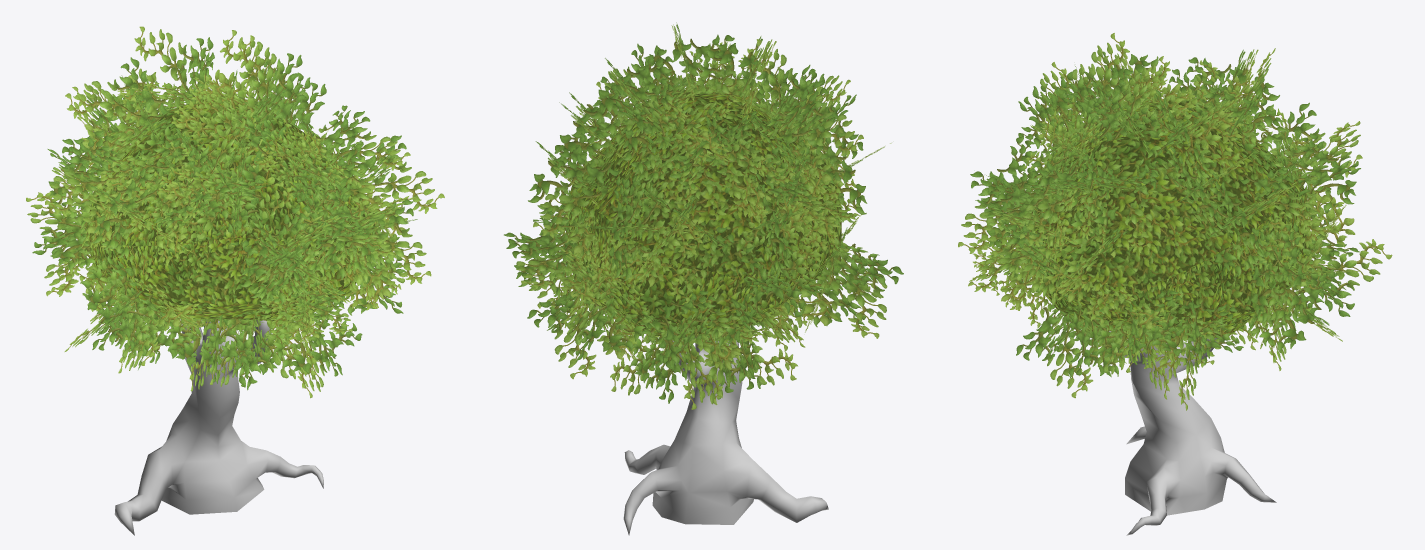
Rendered from main tree.FBX.
The picture shows the model from 3 angles, left to right: view 1: azimuth 30°, elevation 25°; view 2: azimuth 150°, elevation 25°; view 3: azimuth 270°, elevation 25°; orthographic projection. The views are drawn at different scales.
Parts seen in each view (by area): view 1: forest main tree; view 2: forest main tree; view 3: forest main tree.
Part boxes in pixels (x1,y1,x2,y2): forest main tree: (26, 26, 444, 535); forest main tree: (504, 22, 903, 535); forest main tree: (958, 33, 1392, 535).
Bounding box in the file's own units: 12.95 × 14.21 × 15.83.
